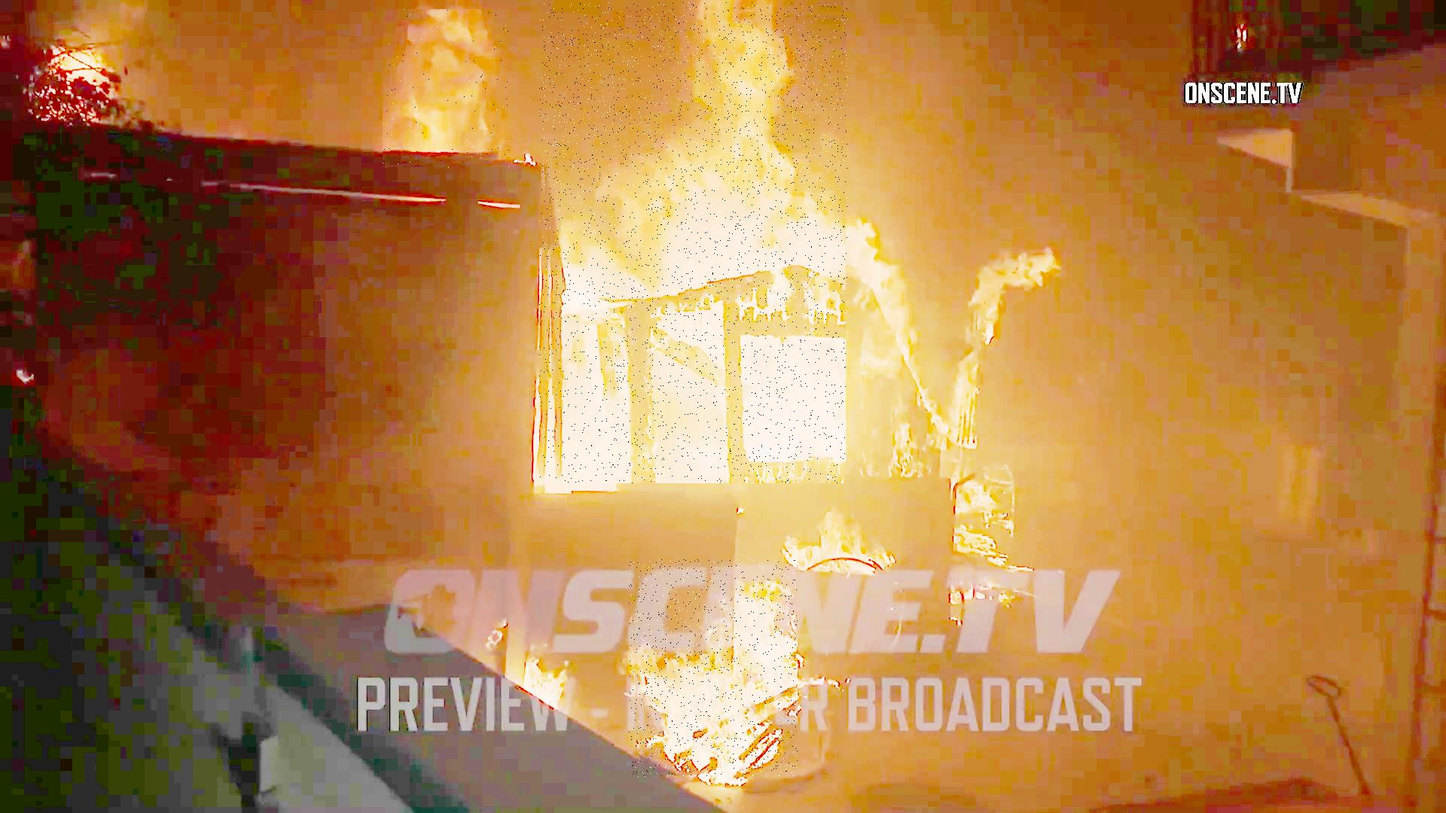fire: (540, 2, 848, 483), (629, 559, 798, 777), (383, 10, 511, 171)
